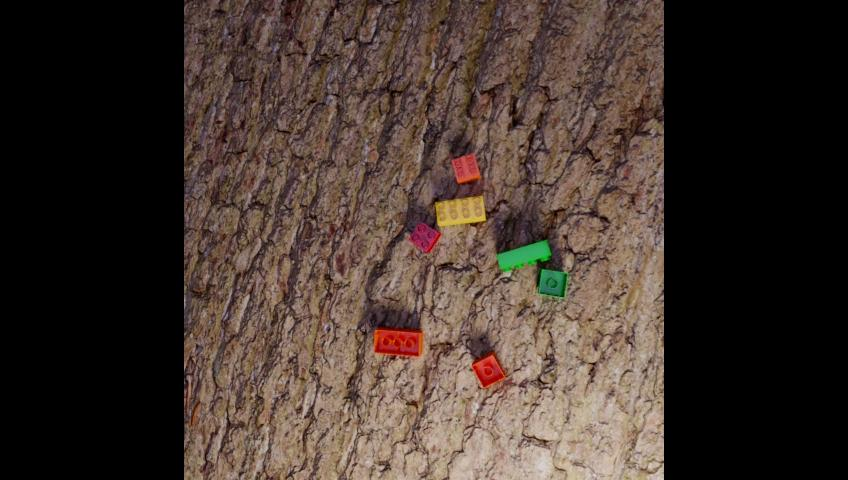2x2_green: (537, 269, 567, 298)
2x2_orange: (470, 352, 504, 388), (451, 154, 480, 184)
2x2_red: (407, 221, 441, 252)
4x2_green: (496, 241, 550, 272)
4x2_orange: (373, 328, 422, 357)
4x2_yellow: (435, 196, 485, 226)
